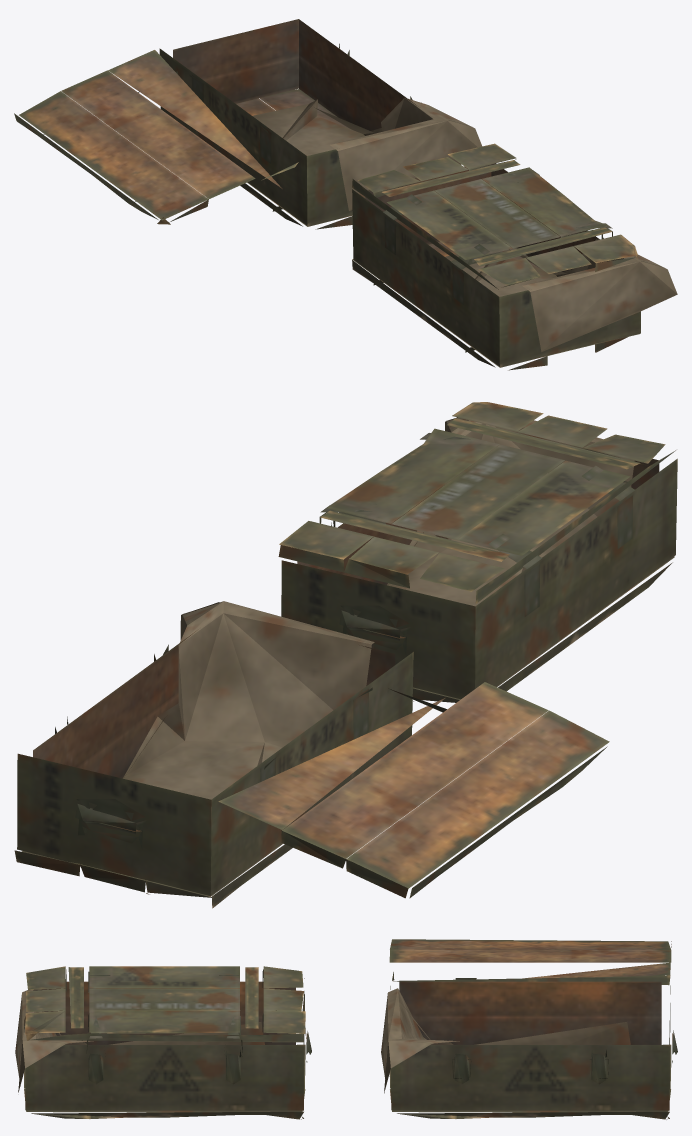
The model's file is prop_crate_old.glb.
The picture shows the model from 3 angles, top to bottom: view 1: azimuth 30°, elevation 25°; view 2: azimuth 150°, elevation 25°; view 3: azimuth 270°, elevation 25°; orthographic projection. The views are drawn at different scales.
Parts seen in each view (by area): view 1: hull; view 2: hull; view 3: hull.
Part boxes in pixels (box(x1,y1,x2,y2)): hull: box(14, 19, 677, 370); hull: box(14, 402, 677, 908); hull: box(15, 939, 677, 1119).
Size of the model in its own units: 1.07 by 0.3365 by 2.
Materials: 1 (1 with a texture image).
